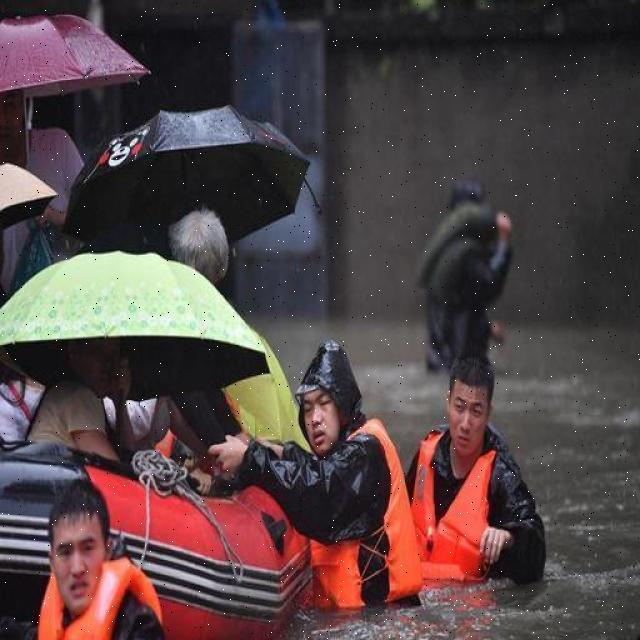rescuer: (260, 340, 432, 640), (416, 314, 558, 620)
